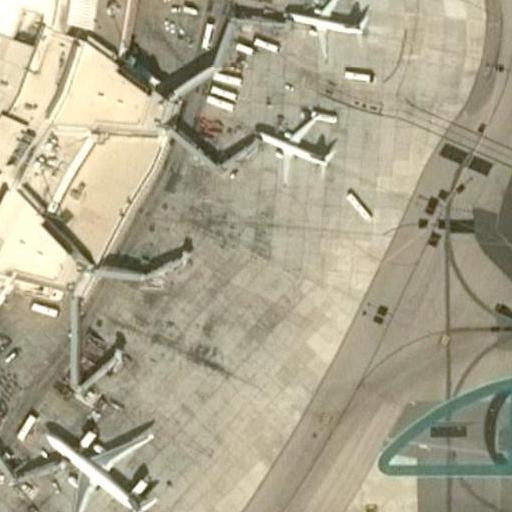Aircraft: (37, 423, 162, 512), (253, 113, 337, 186), (283, 0, 371, 60), (0, 500, 63, 512)
